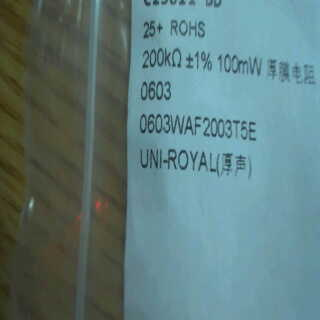200kR: (133, 44, 184, 77)
